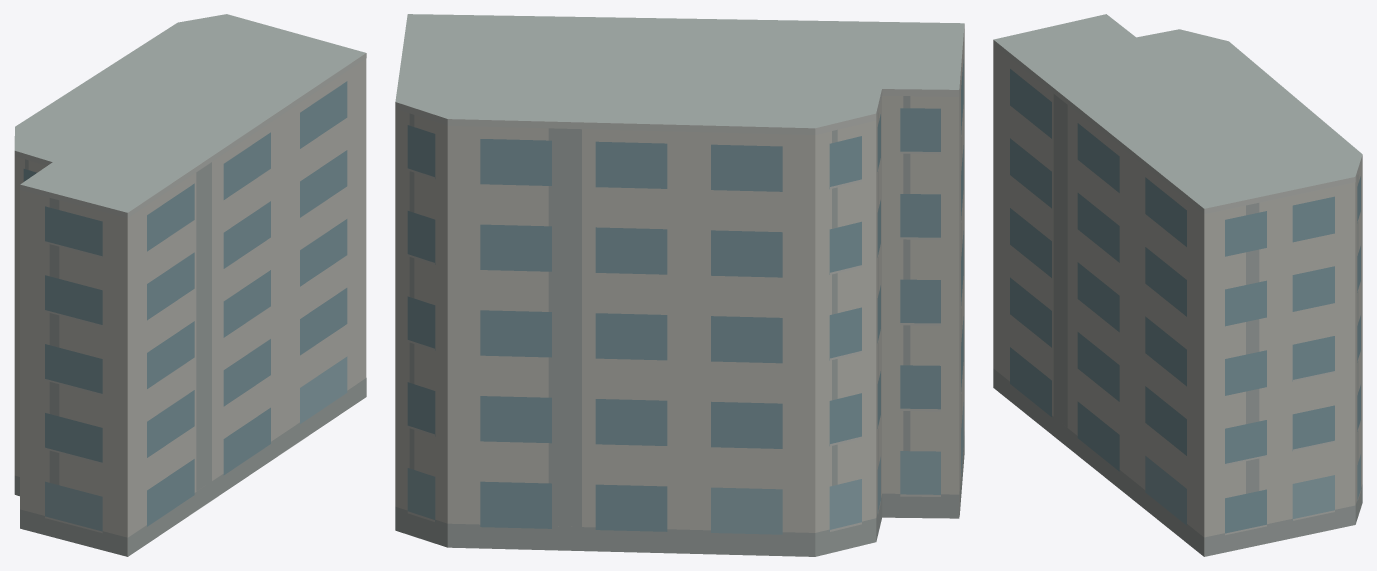
The model's file is survey-upis-32831485.glb.
3 renders of one model, left to right at view 1: azimuth 30°, elevation 25°; view 2: azimuth 150°, elevation 25°; view 3: azimuth 270°, elevation 25°, orthographic. The views are drawn at different scales.
Visible parts, largest first — view 1: survey-upis-32831485.tmp; view 2: survey-upis-32831485.tmp; view 3: survey-upis-32831485.tmp.
Part boxes in pixels (box(x1,y1,x2,y2)): survey-upis-32831485.tmp: box(14, 14, 366, 556); survey-upis-32831485.tmp: box(395, 14, 964, 556); survey-upis-32831485.tmp: box(993, 14, 1362, 556).
Bounding box in the file's own units: 18.49 × 15.4 × 14.82.
